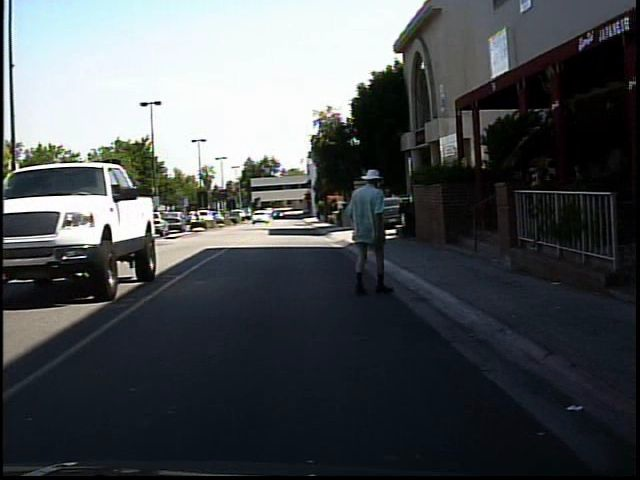person: (341, 162, 400, 299), (41, 198, 68, 266), (191, 203, 206, 228)
